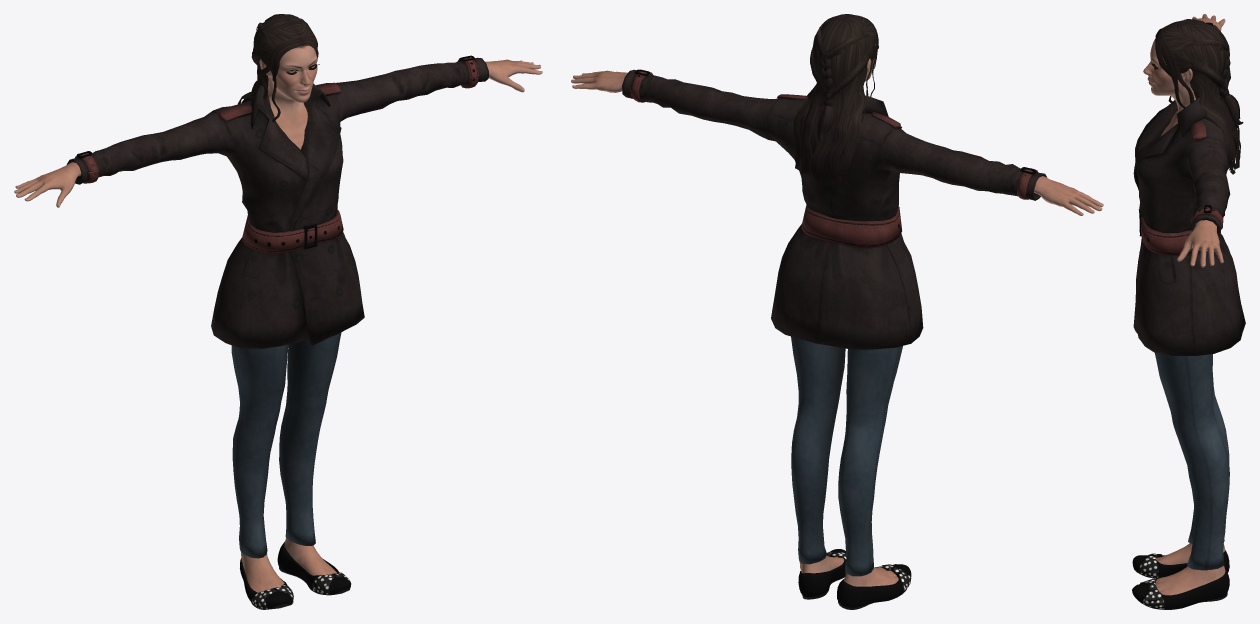
The model's file is base_female_with_clothing.glb.
3 renders of one model, left to right at view 1: azimuth 30°, elevation 25°; view 2: azimuth 150°, elevation 25°; view 3: azimuth 270°, elevation 25°, orthographic.
Visible parts, largest first — view 1: Object_3, Object_2; view 2: Object_3, Object_2; view 3: Object_3, Object_2.
Part boxes in pixels (x1=…): Object_3: x1=66, y1=14, x2=488, y2=609; Object_2: x1=14, y1=45, x2=542, y2=592; Object_3: x1=622, y1=14, x2=1046, y2=609; Object_2: x1=571, y1=44, x2=1103, y2=586; Object_3: x1=1132, y1=19, x2=1245, y2=609; Object_2: x1=1143, y1=14, x2=1229, y2=595.
Bounding box in the file's own units: 167 × 174 × 31.59.
1 material, 1 textured.
